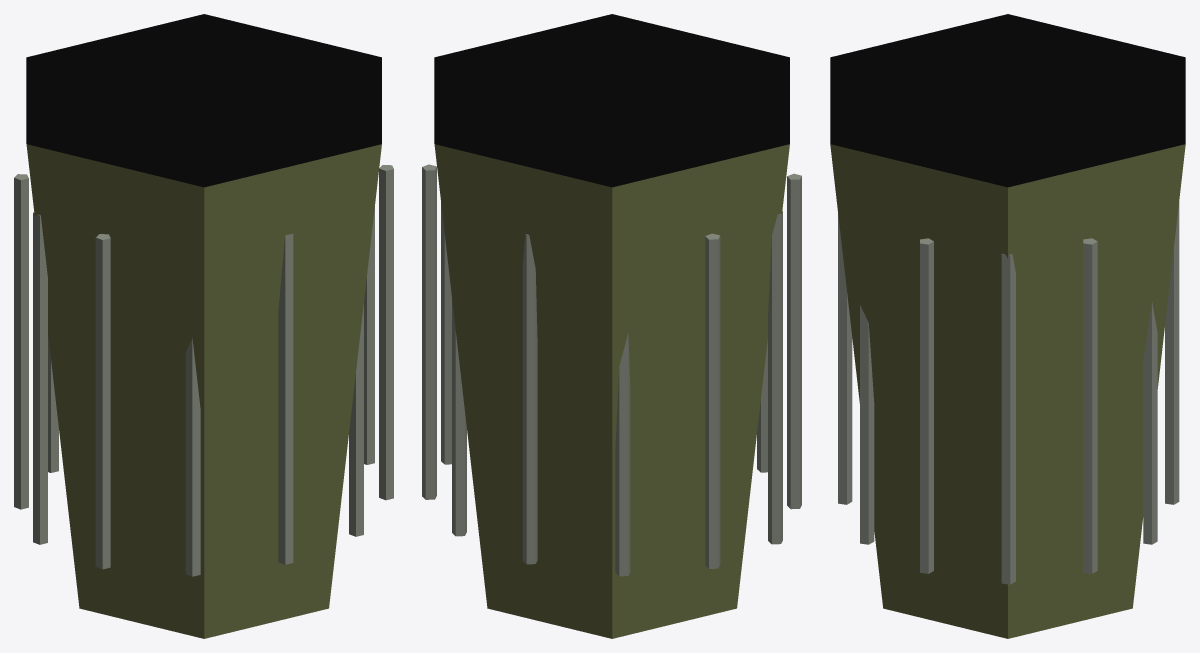
Rendered from TRASH29.glb.
3 views of the same model, side by side, from view 1: azimuth 30°, elevation 25°; view 2: azimuth 150°, elevation 25°; view 3: azimuth 270°, elevation 25° (orthographic).
Parts seen in each view (by area): view 1: TRASH29 | archived geometry, Fitted street and landscape details; view 2: TRASH29 | archived geometry, Fitted street and landscape details; view 3: TRASH29 | archived geometry, Fitted street and landscape details.
Boxes of the visible parts, bbox=[...] form: TRASH29 | archived geometry: bbox=[26, 14, 381, 638]; Fitted street and landscape details: bbox=[14, 165, 393, 576]; TRASH29 | archived geometry: bbox=[434, 14, 789, 638]; Fitted street and landscape details: bbox=[422, 164, 801, 576]; TRASH29 | archived geometry: bbox=[830, 14, 1185, 638]; Fitted street and landscape details: bbox=[838, 202, 1179, 584].
Size of the model in its own units: 0.8328 by 1.07 by 0.7212.
